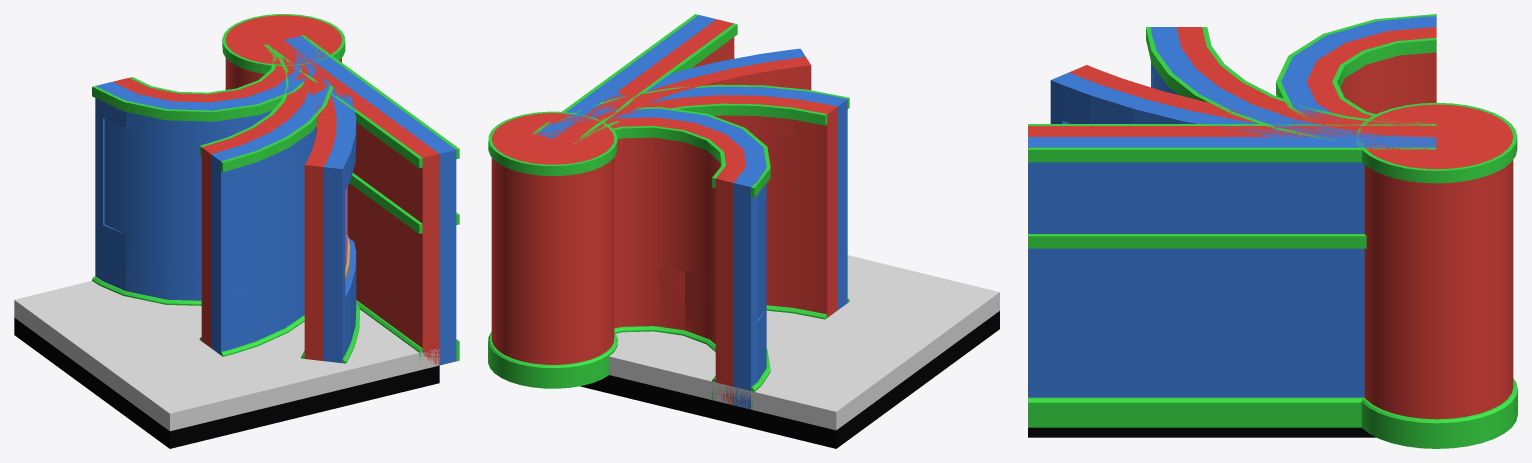
Rendered from M_FacilityModular.fbx.
3 views of the same model, side by side, from view 1: azimuth 30°, elevation 25°; view 2: azimuth 150°, elevation 25°; view 3: azimuth 270°, elevation 25° (orthographic). The views are drawn at different scales.
Visible parts, largest first — view 1: Ceiling, WallRound_01, Wall_02, WallCorner_01, BlastWindow_02, Window_02, WallCorner_03, WallCorner_02, Wall_03, WallRound_04, BlastWindow_01, ContainmentWindow_01 (+11 smaller); view 2: Ceiling, Pillar_01, WallRound_01, WallRound_02, WallCorner_01, Pillar_02, WallCorner_02, WallCorner_03, Pillar_03, WallRound_03, ContainmentWindow_01, Pillar_04 (+6 smaller); view 3: Wall_02, HalfWall_01, Pillar_01, Window_02, Pillar_03, Pillar_02, Wall_03, WallRound_01, BlastWindow_02, WallCorner_01, Wall_01, Pillar_04 (+11 smaller).
Part boxes in pixels (x1,y1,x2,y2): Ceiling: (14,281,439,448); WallRound_01: (94,37,312,305); Wall_02: (267,36,456,365); WallCorner_01: (199,36,329,356); BlastWindow_02: (272,38,359,363); Window_02: (264,35,459,364); WallCorner_03: (199,35,333,354); WallCorner_02: (201,129,315,354); Wall_03: (267,35,458,364); WallRound_04: (104,115,257,300); BlastWindow_01: (201,39,313,356); ContainmentWindow_01: (92,41,299,300); Ceiling: (580,255,999,448); Pillar_01: (488,113,617,388); WallRound_01: (545,108,770,409); WallRound_02: (614,138,766,408); WallCorner_01: (543,86,849,319); Pillar_02: (491,158,614,364); WallCorner_02: (719,101,847,317); WallCorner_03: (567,84,849,316); Pillar_03: (488,111,617,364); WallRound_03: (556,107,770,406); ContainmentWindow_01: (563,127,770,391); Pillar_04: (488,111,616,361); Wall_02: (1028,126,1436,397); HalfWall_01: (1028,234,1366,427); Pillar_01: (1360,104,1517,448); Window_02: (1028,124,1436,427); Pillar_03: (1356,102,1517,418); Pillar_02: (1364,163,1513,418); Wall_03: (1028,124,1433,396); WallRound_01: (1281,16,1436,146); BlastWindow_02: (1050,65,1436,146); WallCorner_01: (1151,27,1436,147); Wall_01: (1028,162,1364,396); Pillar_04: (1356,104,1516,418).
Bounding box in the file's own units: 480 × 325 × 480.
